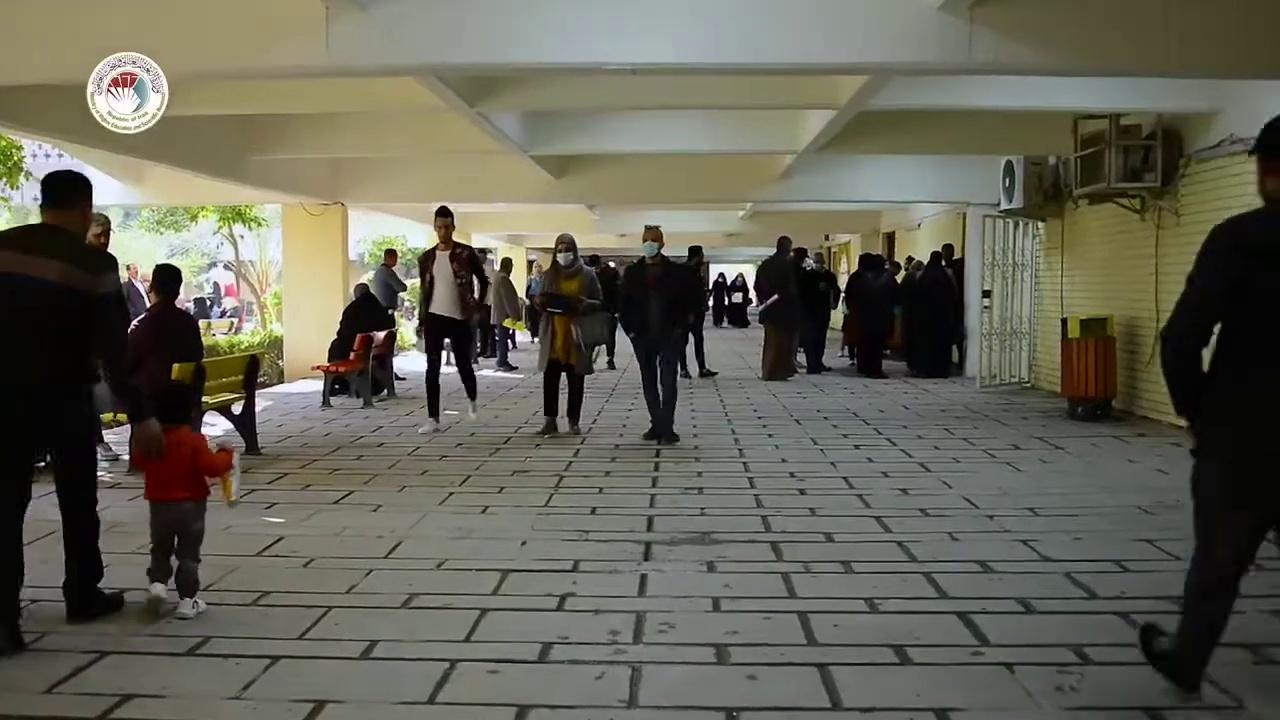fountain: (197, 316, 236, 337)
person: (1138, 113, 1279, 694), (0, 168, 131, 656), (130, 378, 233, 619), (123, 262, 205, 473), (415, 205, 490, 434), (617, 225, 695, 443), (532, 232, 603, 435), (84, 212, 129, 461), (326, 282, 395, 400), (756, 241, 812, 373), (847, 243, 896, 376), (909, 246, 963, 361), (797, 249, 841, 376), (371, 248, 407, 380), (709, 264, 751, 334), (121, 262, 150, 320), (525, 260, 545, 344)
tree: (133, 202, 276, 332), (356, 233, 424, 352), (221, 228, 280, 331), (356, 233, 422, 279), (0, 132, 32, 197)
